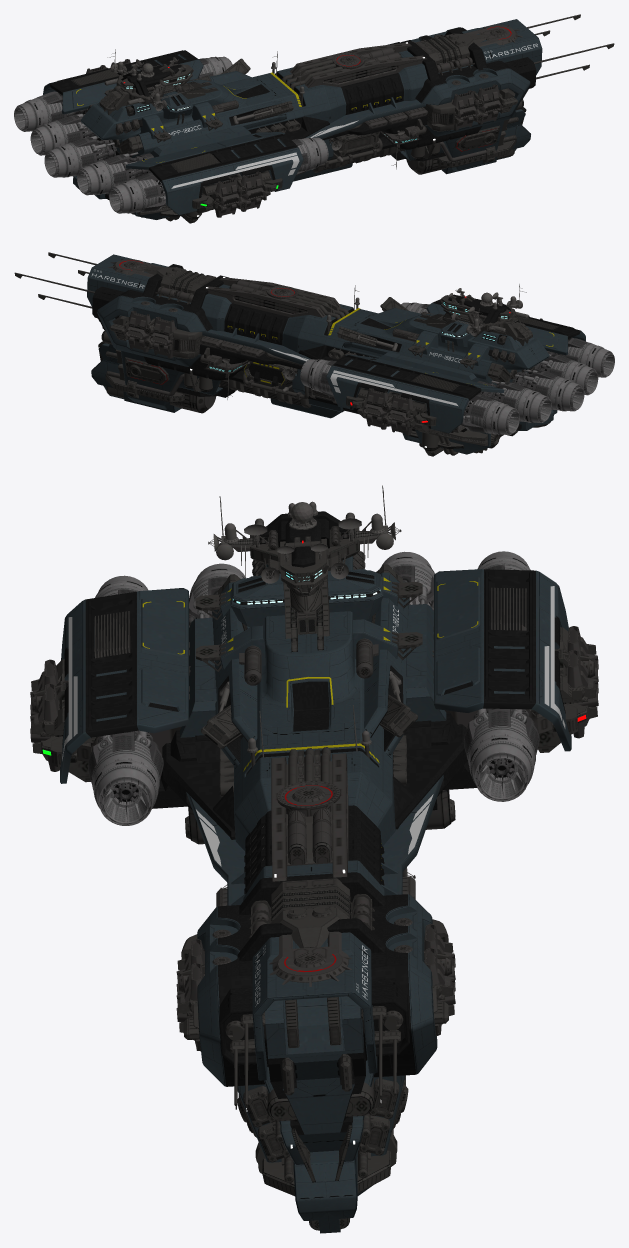
File: harbinger.glb
The picture shows the model from 3 angles, top to bottom: view 1: azimuth 30°, elevation 25°; view 2: azimuth 150°, elevation 25°; view 3: azimuth 270°, elevation 25°; orthographic projection. The views are drawn at different scales.
Parts seen in each view (by area): view 1: root; view 2: root; view 3: root.
Part boxes in pixels (box(x1,y1,x2,y2)): root: box(14, 14, 614, 223); root: box(14, 252, 614, 456); root: box(30, 485, 598, 1233).
Bounding box in the file's own units: 120 × 39.69 × 53.93.
Materials: 17 (8 with a texture image).
